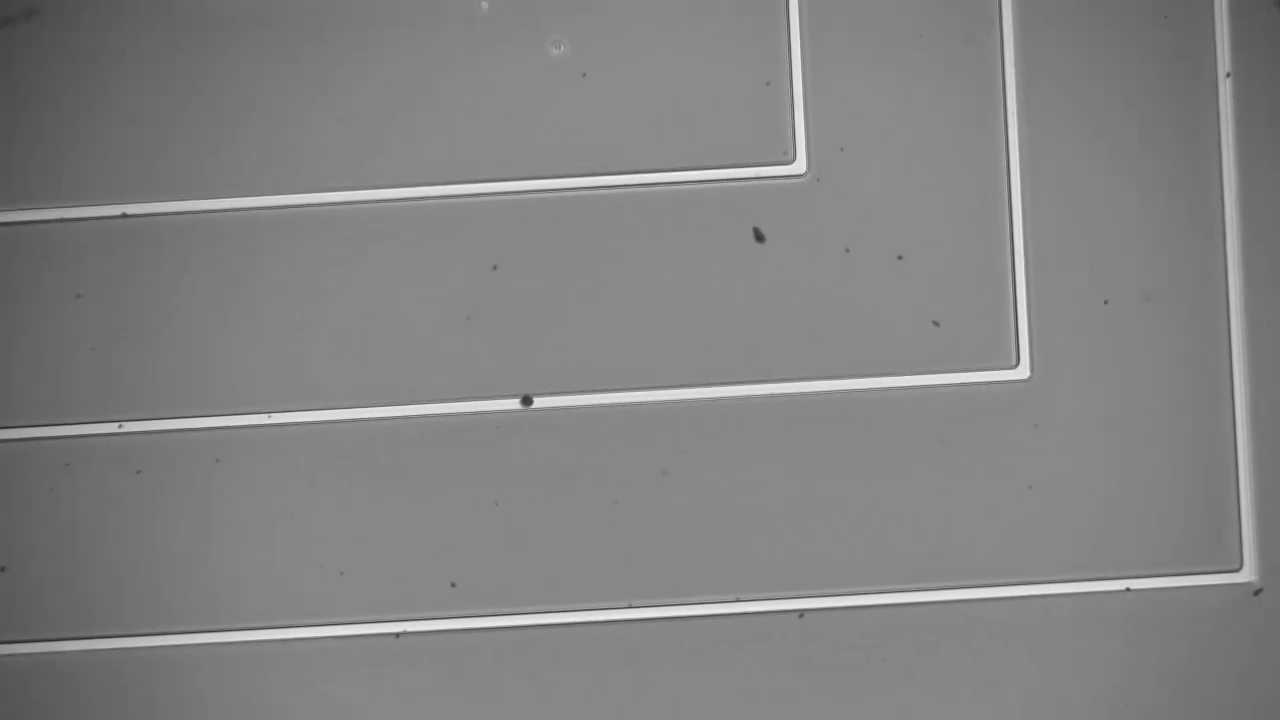stains_enbedded: (516, 383, 541, 414)
